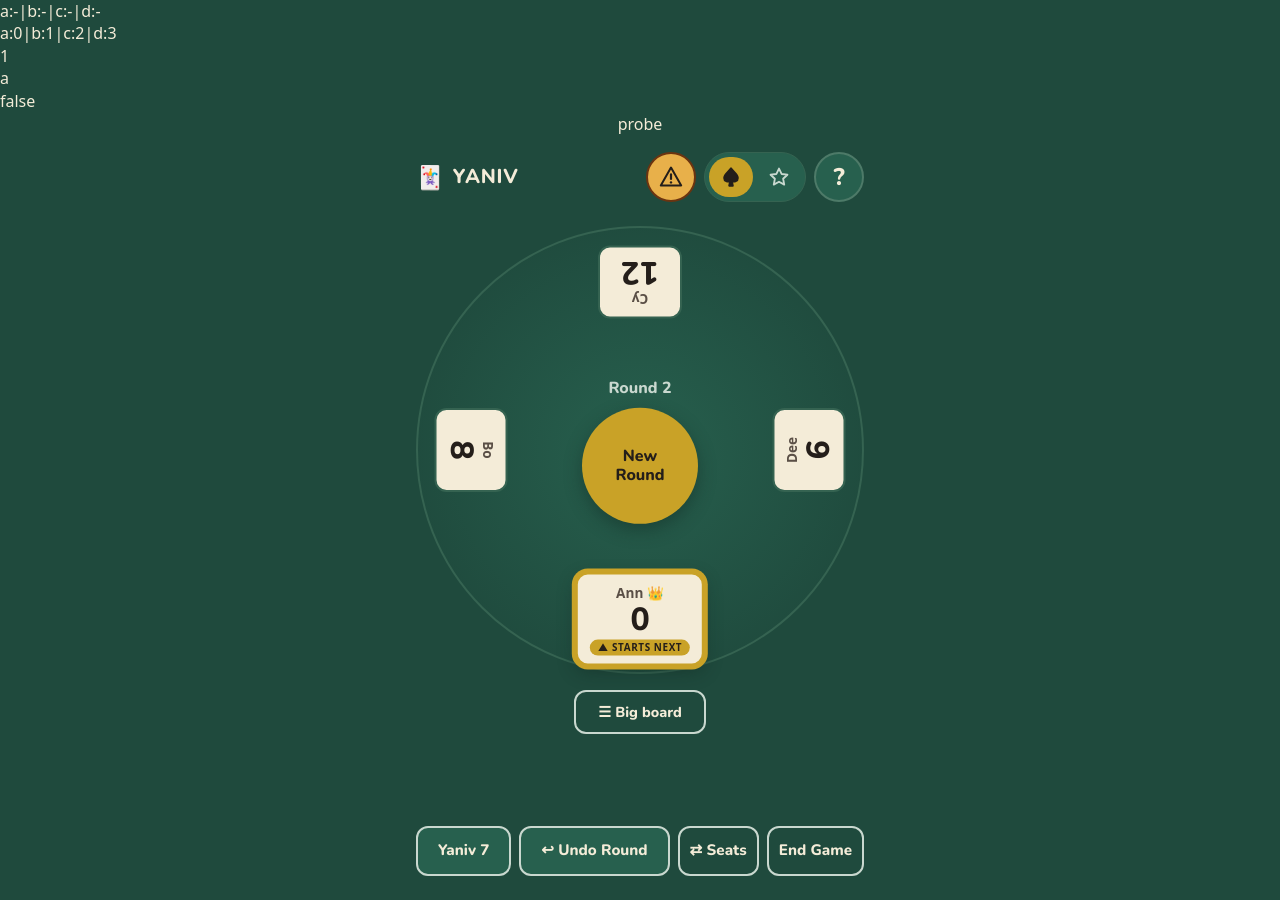
it: the confirmation in front of a removal › says what happens to their score and that it cannot be undone
Click the button with aria-label "Rearrange seats". click: x=718, y=851
box: top-left (678, 826), bottom-right (759, 876)
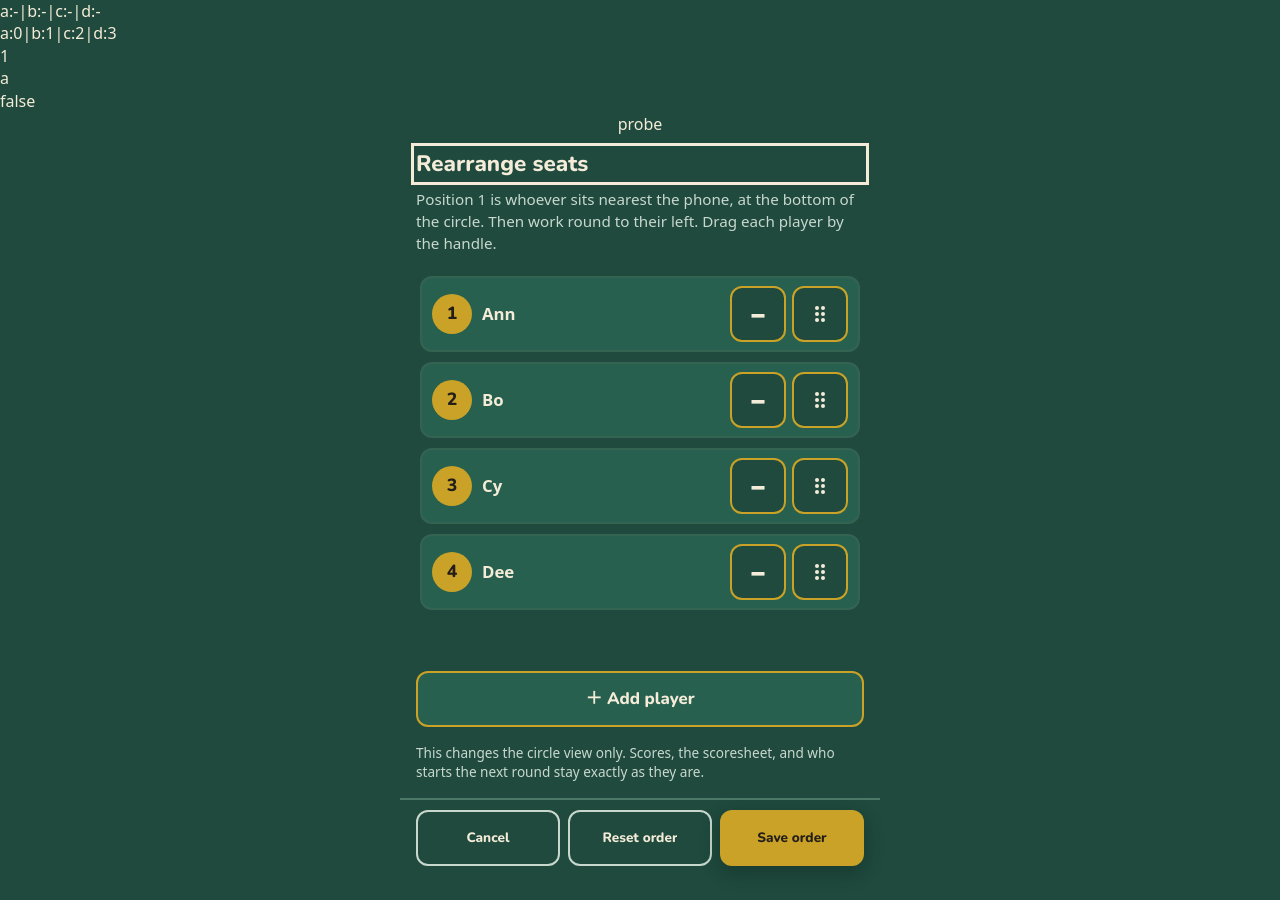
Click the button with test id "remove-b". click: x=758, y=400
box: top-left (730, 372), bottom-right (786, 428)
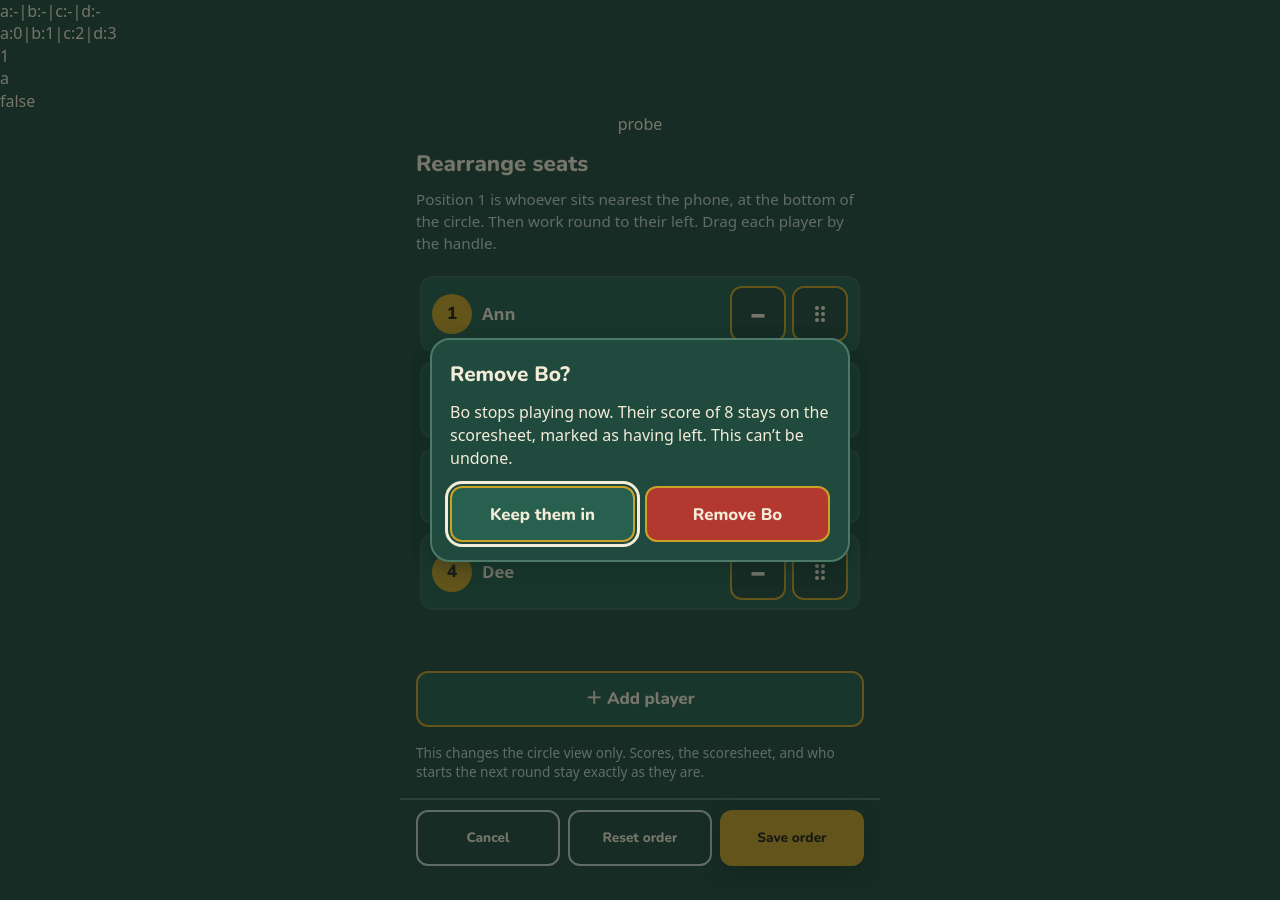
Check: the dialog with test id "confirm-remove-player" shows "Remove Bo?", box top-left (450, 360), bottom-right (570, 388)
Check: the dialog with test id "confirm-remove-player" shows "Bo stops playing now", box top-left (450, 401), bottom-right (828, 469)
Check: the dialog with test id "confirm-remove-player" shows "score of 8 stays on the scoresheet", box top-left (450, 401), bottom-right (828, 469)
